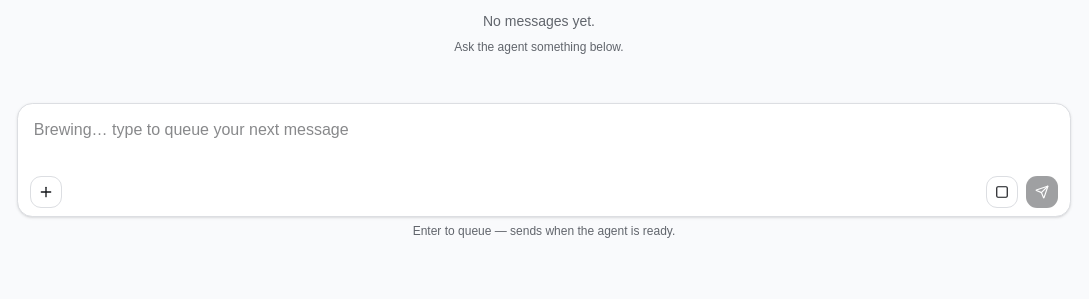
Scenario: queueing while the agent is busy › keeps the input enabled and enqueues via the queue endpoint
In the text box: (544, 142) left=30, top=112, right=1058, bottom=172, type "next task"
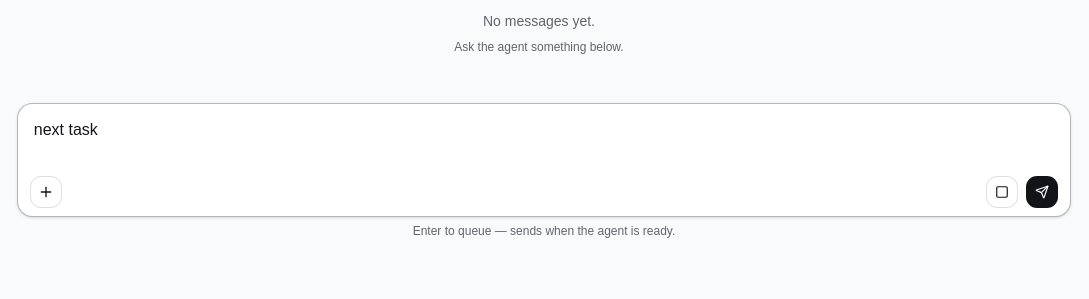
Press Enter
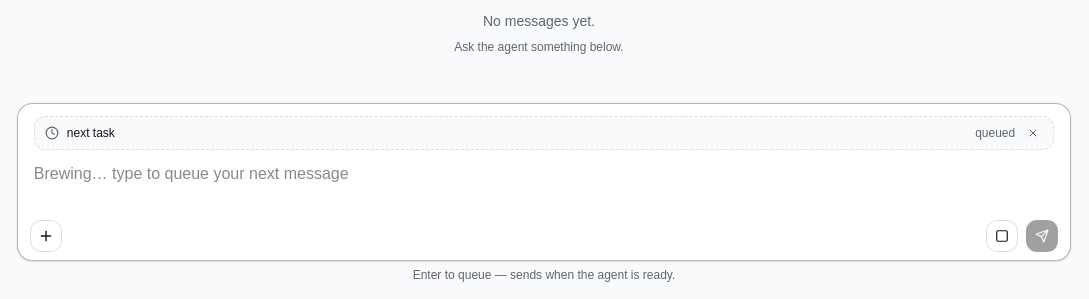
Expected: the text "next task" is shown, left=67, top=126, right=115, bottom=140
Expected: the text "queued" is shown, left=975, top=125, right=1015, bottom=141
Expected: the text box is empty, left=30, top=156, right=1058, bottom=216
